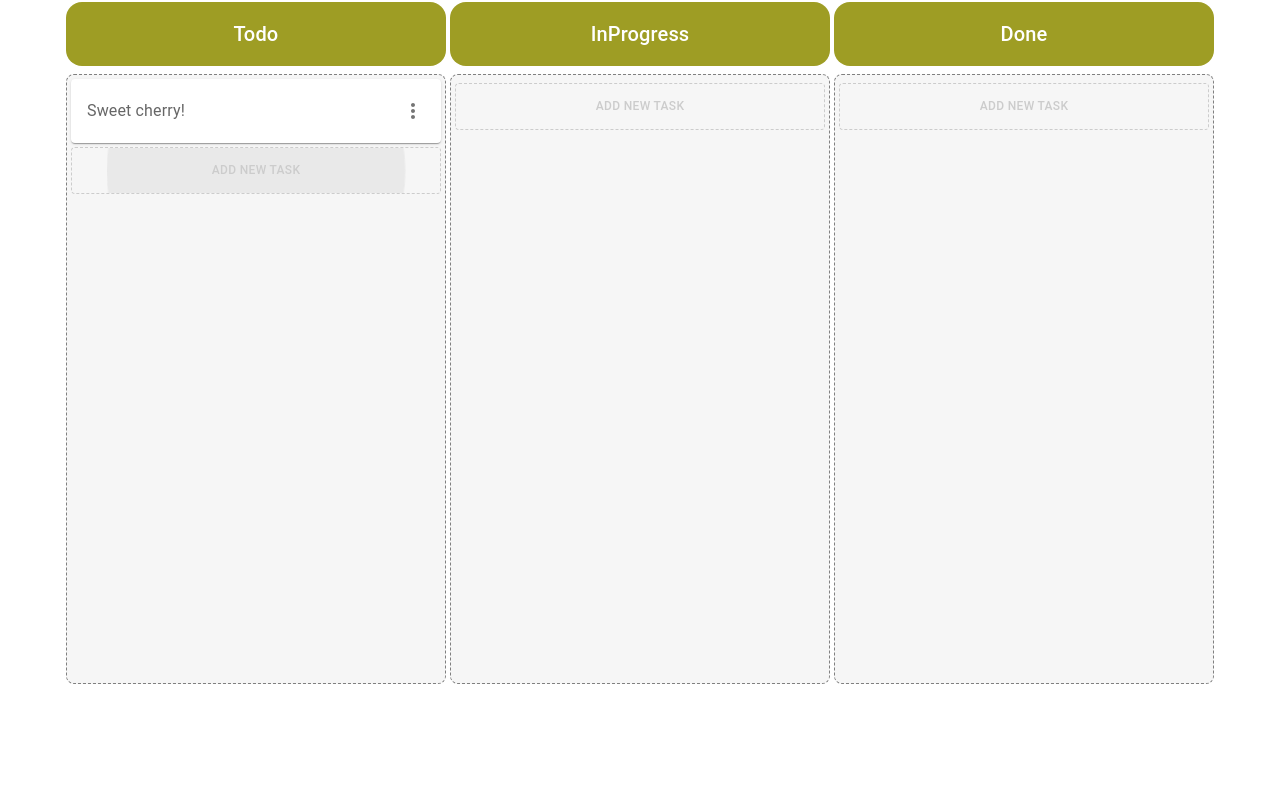
Test: Tasks › should create a new task via enter key
Step 1. Click the button with test id "add-task__open-modal-btn" → coordinates (256, 171), box [71,147,441,194]
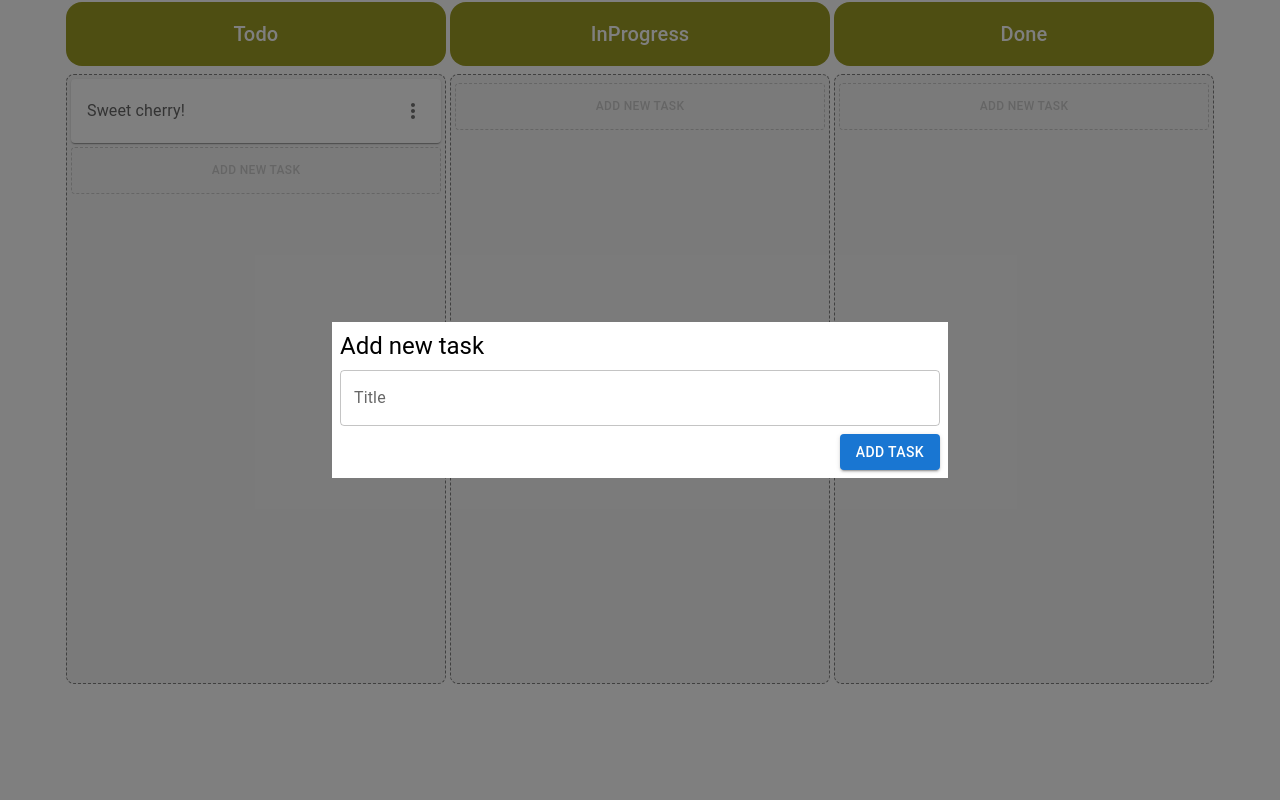
Step 2. Type "Salt potato!" into the field with test id "add-task__field-name" → coordinates (640, 398), box [340,370,940,426]
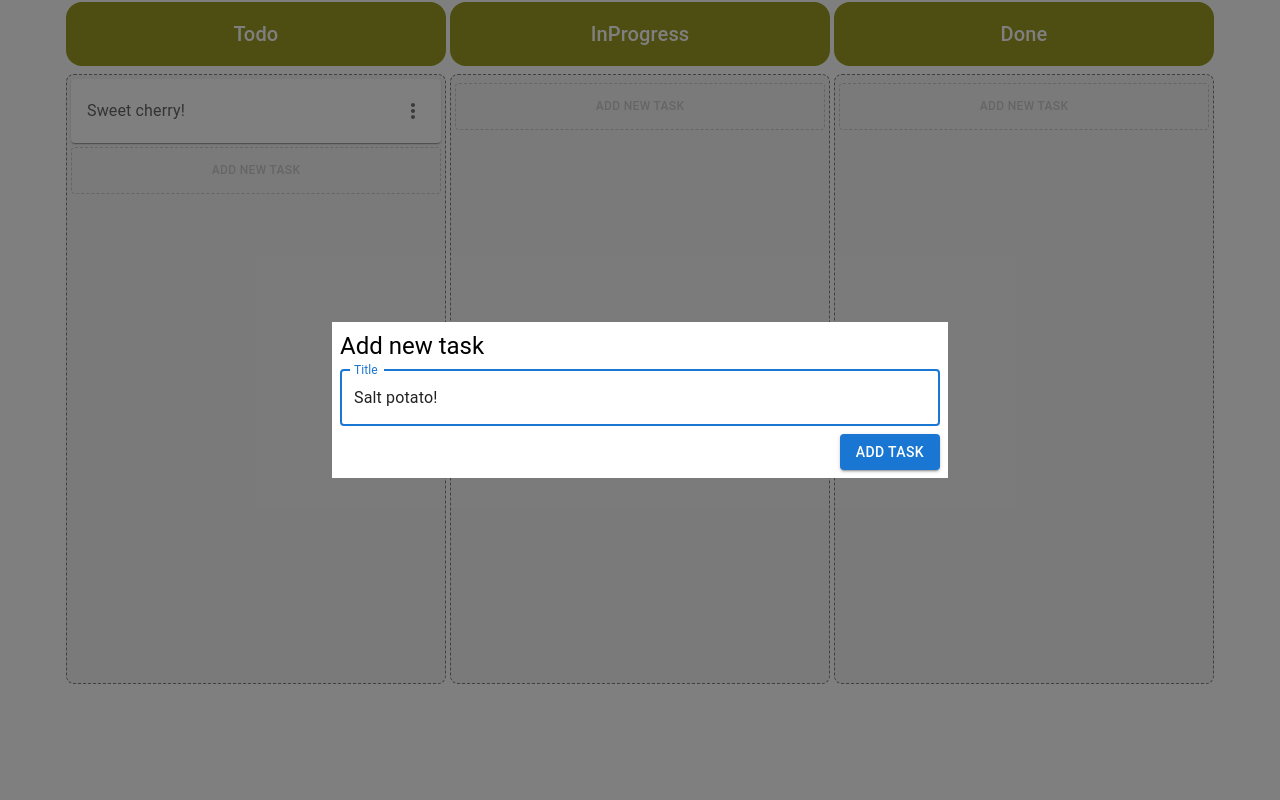
Step 3. Press Enter in the field with test id "add-task__field-name", box [340,370,940,426]
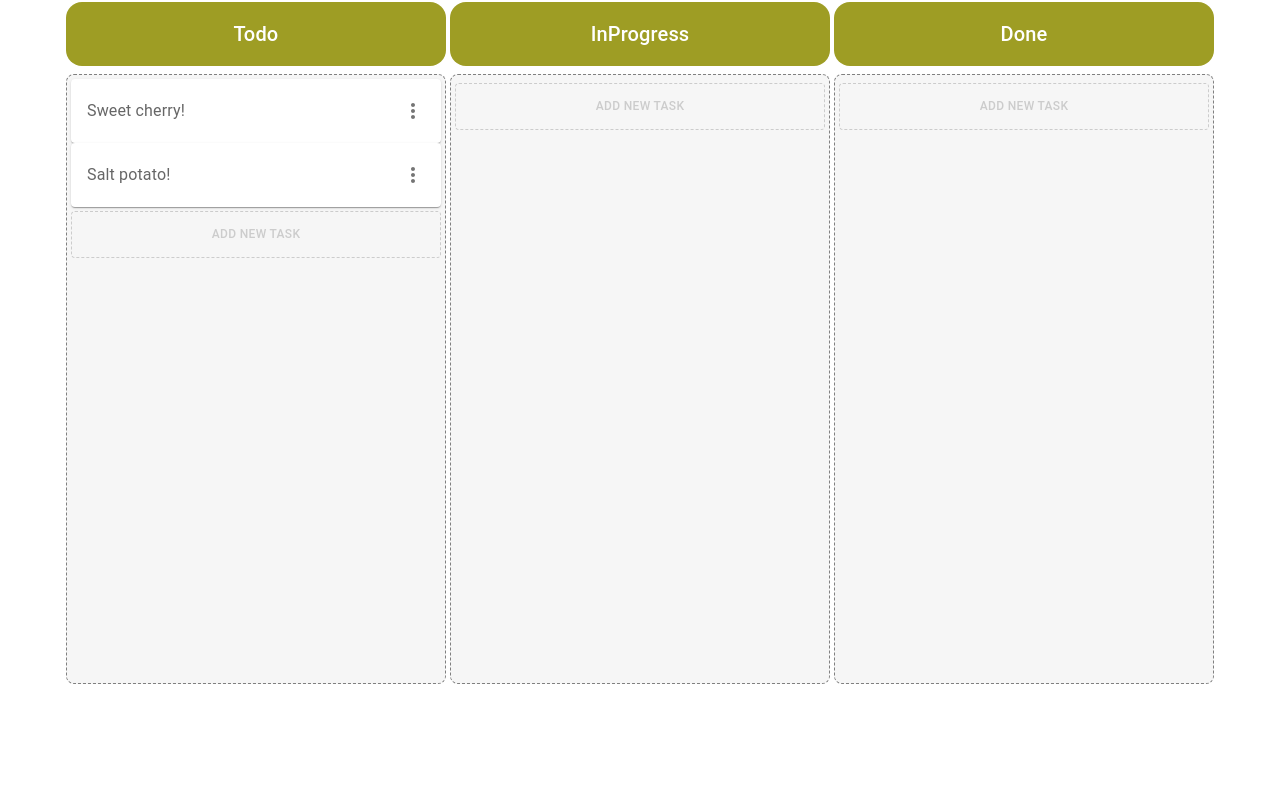
Expected: the text "Salt potato!" is shown, [87,165,170,184]
